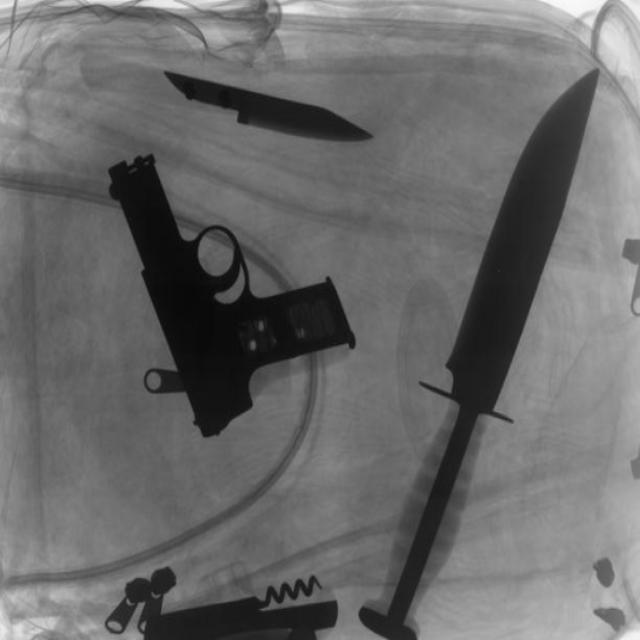GUN: (103, 153, 359, 435)
KNIFE: (350, 46, 583, 625), (154, 59, 375, 154)
